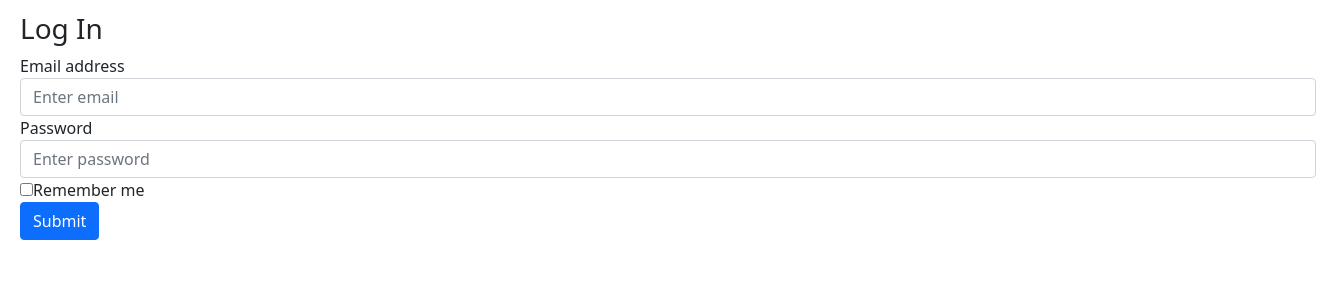
Test: <Login/> › pass invalid email to test input value
The width and height of the screenshot is (1337, 281).
In the field with test id "email-input": (668,97) [20,78,1316,116], type "test"
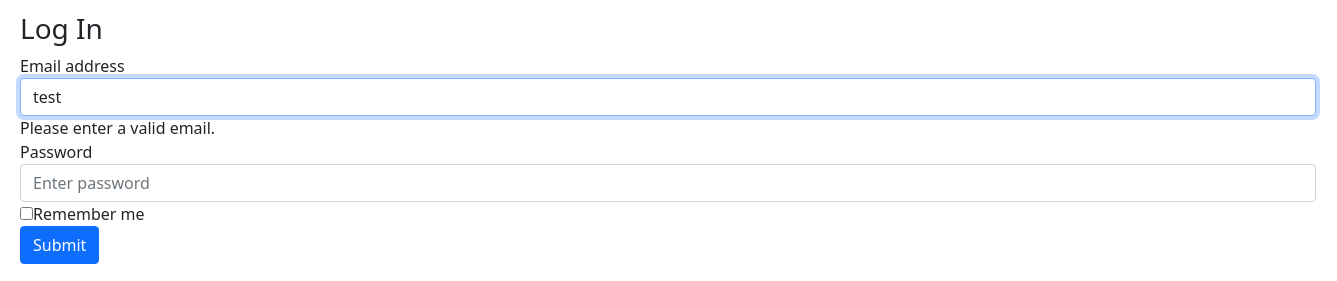
Expected: the text with test id "error-msg" reads "Please enter a valid email.", [20,117,215,139]
